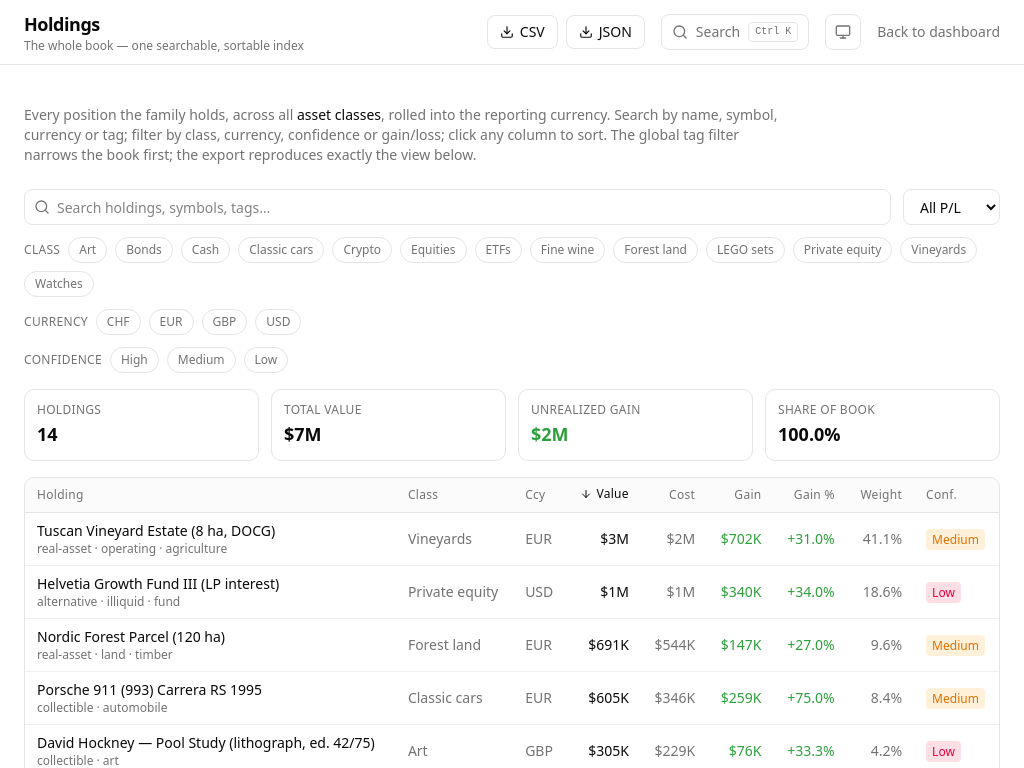
Test case: HoldingsIndexPage › narrows by an asset-class facet chip
This screenshot has width=1024, height=768.
Click the button with test id "facet-class-cash" at point(206, 250), box x1=181 y1=237 x2=230 y2=263
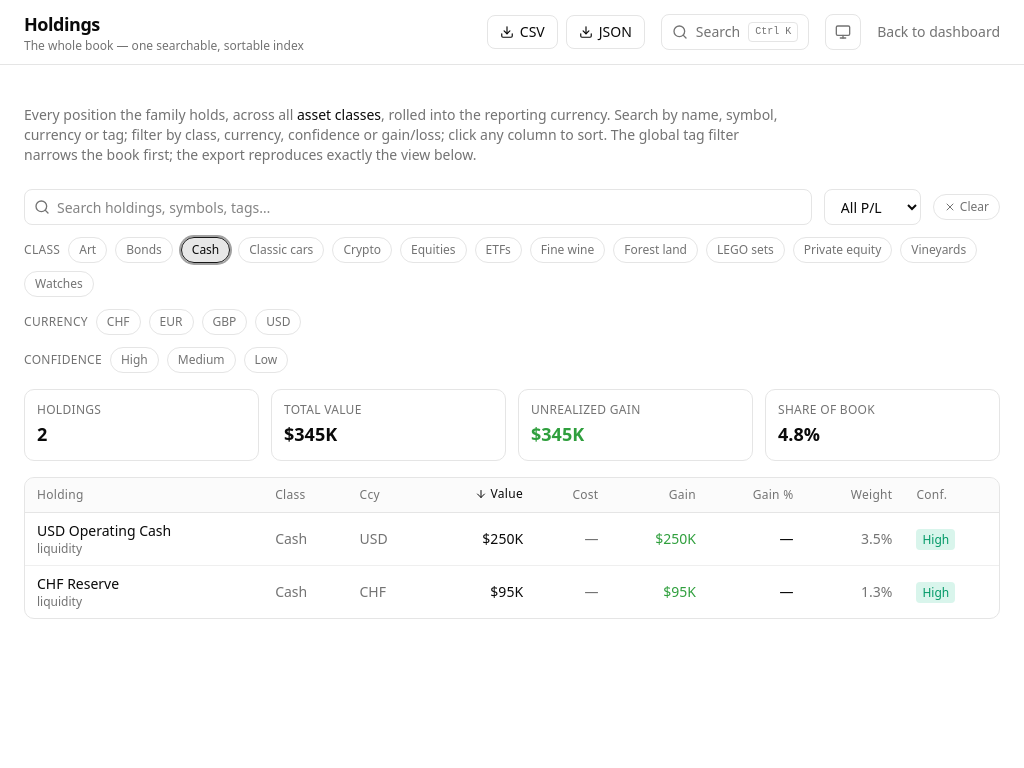
Expected: the text "Cash" next to "USD Operating Cash" is shown, x1=275 y1=529 x2=307 y2=548
Expected: the number of rows with test id "holdings-row" is 2, x1=25 y1=512 x2=999 y2=566; x1=25 y1=566 x2=999 y2=618
